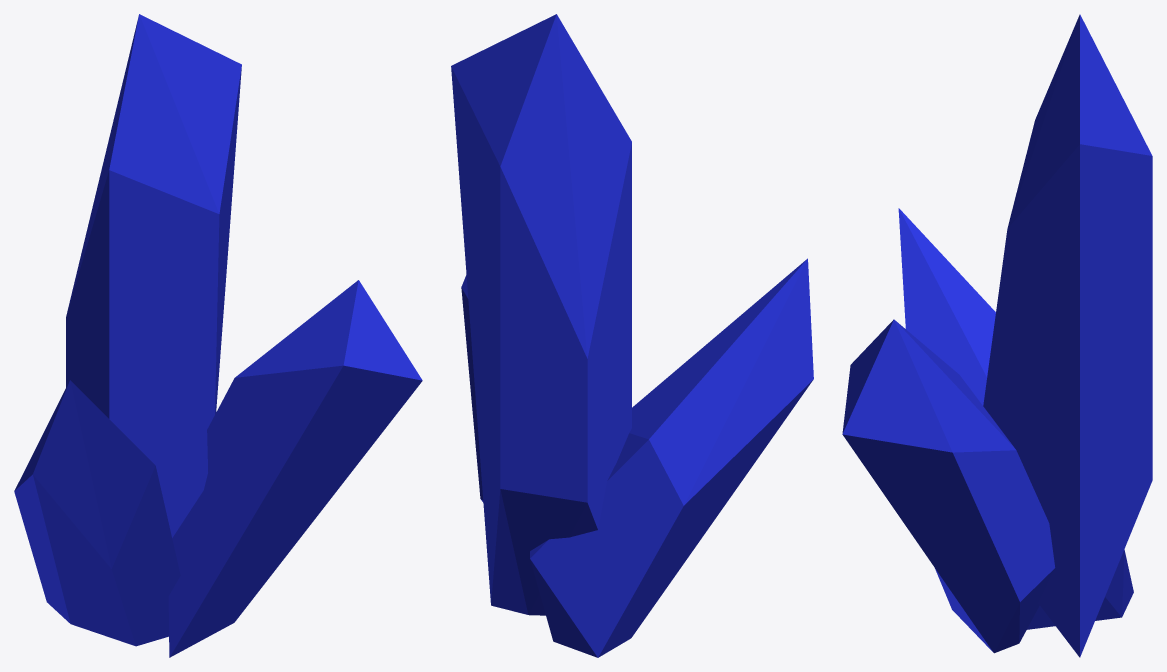
File: Crystal_Group_3.FBX
3 renders of one model, left to right at view 1: azimuth 30°, elevation 25°; view 2: azimuth 150°, elevation 25°; view 3: azimuth 270°, elevation 25°, orthographic. The views are drawn at different scales.
Visible parts, largest first — view 1: Crystal_Group_2; view 2: Crystal_Group_2; view 3: Crystal_Group_2.
Boxes of the visible parts, x1,y1,x2,y2 form: Crystal_Group_2: (14,14,422,657); Crystal_Group_2: (451,14,813,657); Crystal_Group_2: (842,14,1152,657).
Size of the model in its own units: 110 by 178 by 81.93.
